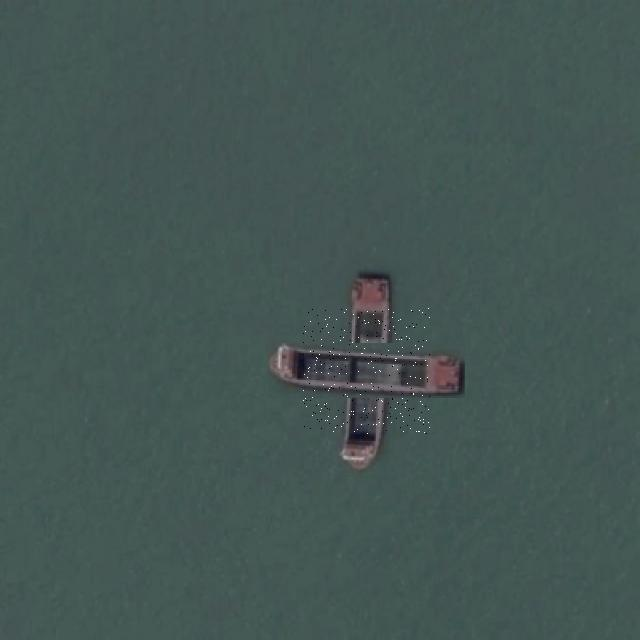boat: (303, 308, 430, 434)
